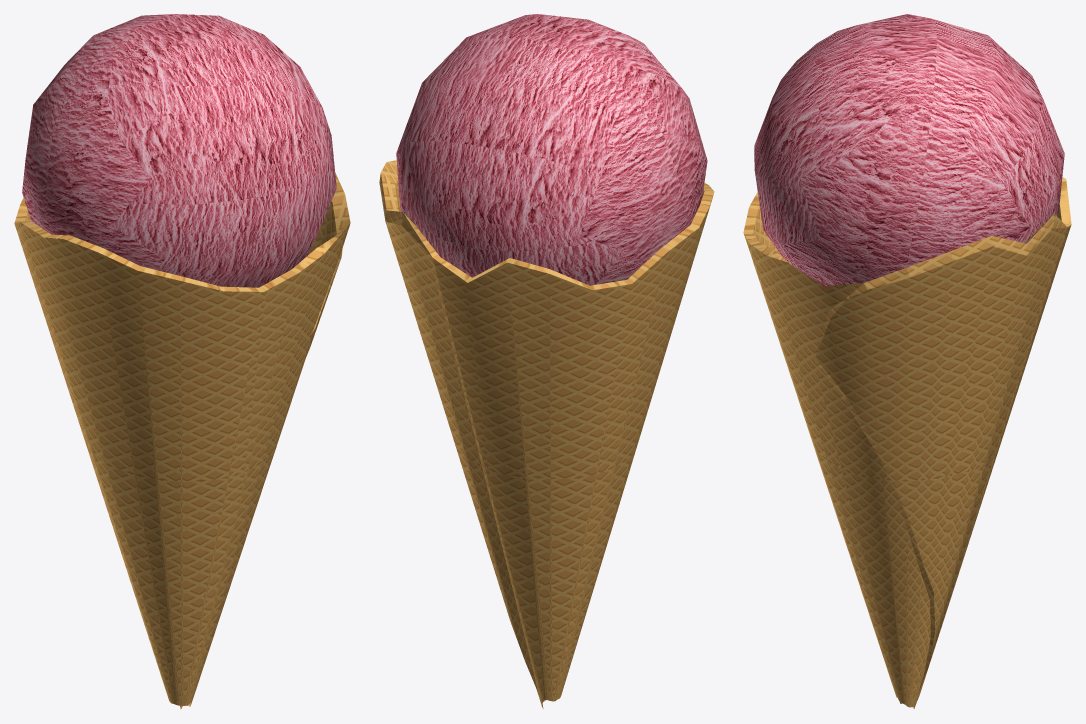
The model's file is IceCream.fbx.
3 views of the same model, side by side, from view 1: azimuth 30°, elevation 25°; view 2: azimuth 150°, elevation 25°; view 3: azimuth 270°, elevation 25° (orthographic).
Visible parts, largest first — view 1: Cone001, Sphere003; view 2: Cone001, Sphere003; view 3: Cone001, Sphere003.
Part boxes in pixels (x1,y1,x2,y2): Cone001: [14, 172, 350, 709]; Sphere003: [22, 14, 336, 287]; Cone001: [379, 160, 714, 708]; Sphere003: [396, 14, 707, 285]; Cone001: [743, 177, 1071, 708]; Sphere003: [754, 14, 1064, 285].
Size of the model in its own units: 2.77 by 6.2 by 2.72.
2 materials, 2 textured.
